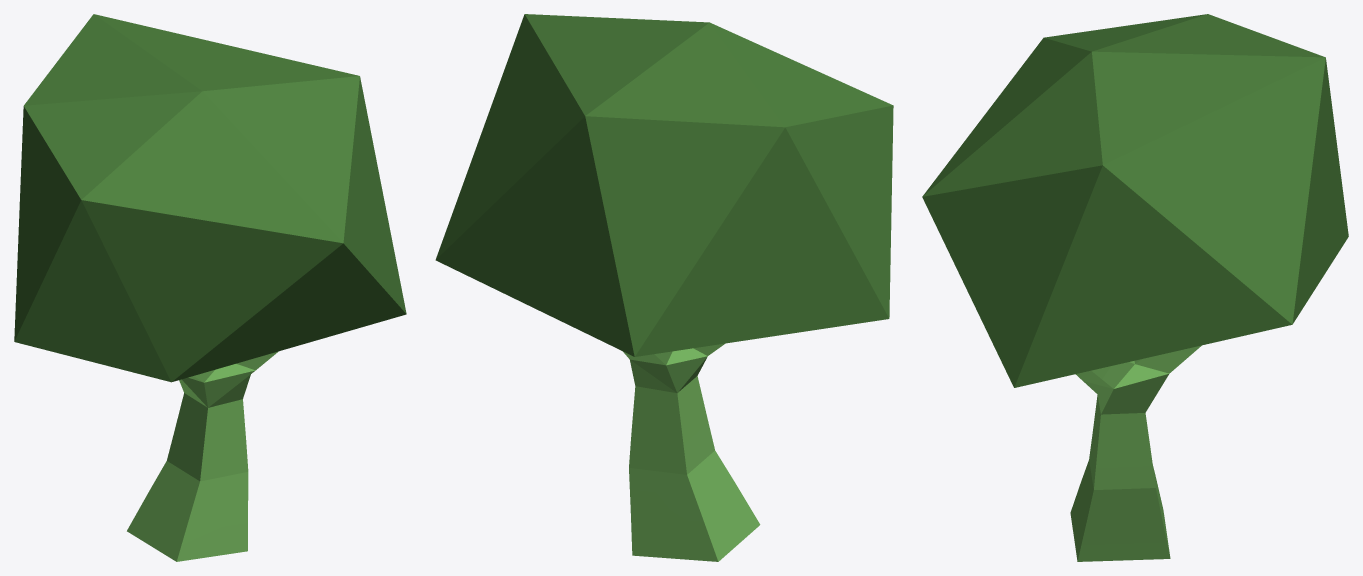
File: SM_Food_Broccoli_01.fbx
3 renders of one model, left to right at view 1: azimuth 30°, elevation 25°; view 2: azimuth 150°, elevation 25°; view 3: azimuth 270°, elevation 25°, orthographic. The views are drawn at different scales.
Visible parts, largest first — view 1: SM_Food_Broccoli_01; view 2: SM_Food_Broccoli_01; view 3: SM_Food_Broccoli_01.
Boxes of the visible parts, left/top/right/bottom form: SM_Food_Broccoli_01: left=14, top=14, right=406, bottom=561; SM_Food_Broccoli_01: left=435, top=14, right=893, bottom=561; SM_Food_Broccoli_01: left=922, top=14, right=1348, bottom=561.
Bounding box in the file's own units: 6.86 × 8.87 × 7.
